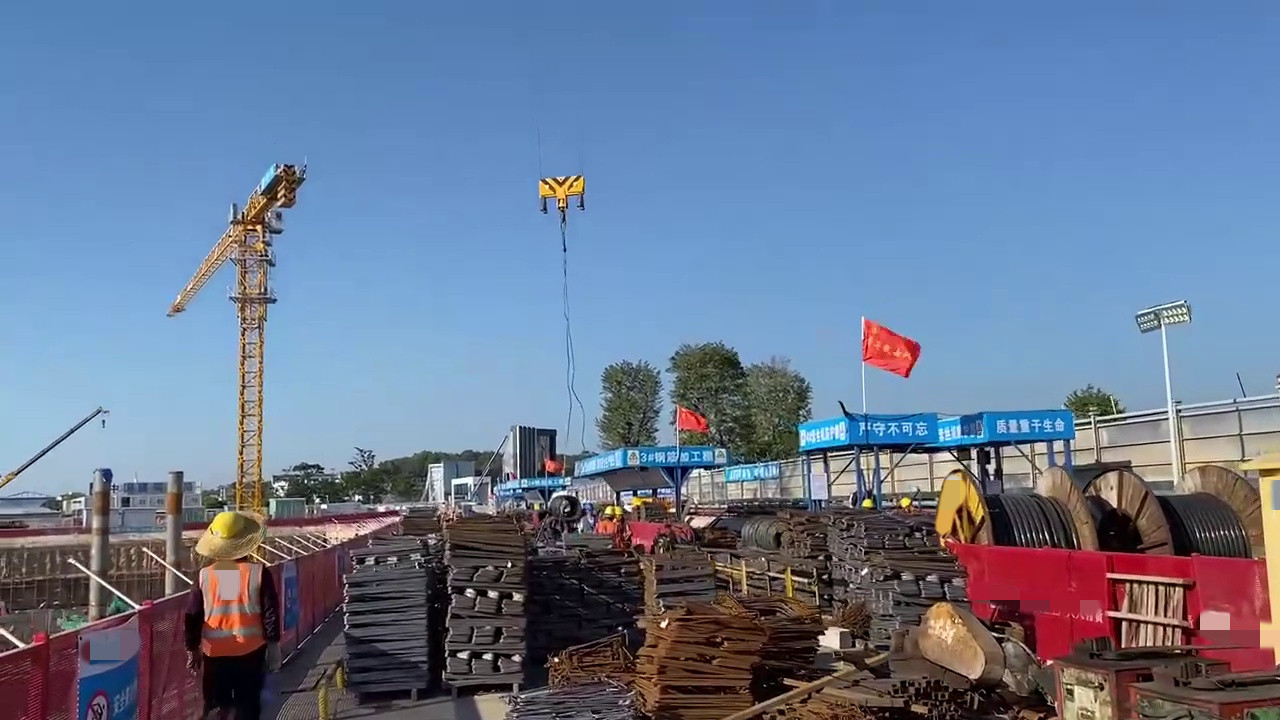fence: (960, 532, 1280, 670), (5, 592, 175, 720), (279, 541, 339, 670)
helmet: (208, 511, 245, 534)
hook: (538, 175, 584, 209)
person: (182, 506, 273, 720), (595, 505, 620, 546)
rebar: (635, 601, 967, 720), (437, 512, 546, 699), (339, 538, 438, 687), (827, 514, 913, 638), (557, 631, 646, 690)
slogan: (858, 411, 942, 440), (985, 410, 1074, 435)
vest: (200, 560, 265, 660)
